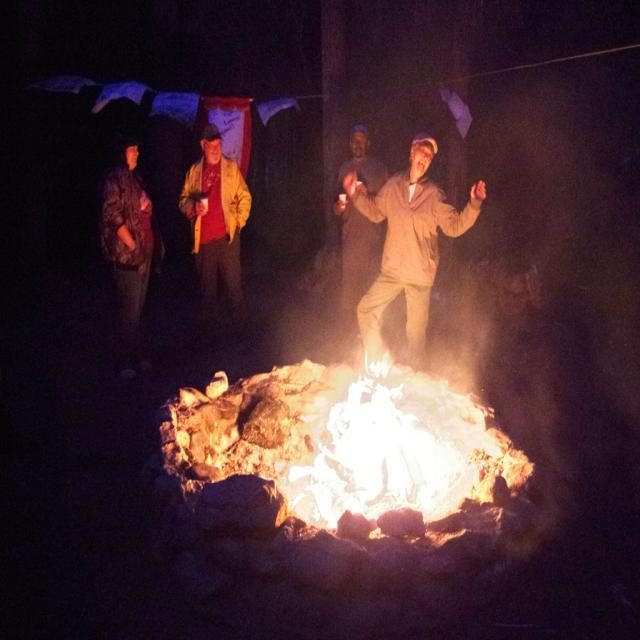Fire: (326, 378, 480, 506)
